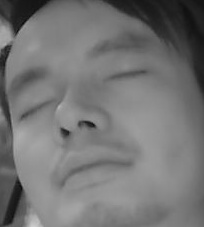blink: (18, 95, 58, 120), (107, 61, 147, 86)
mouth: (53, 142, 136, 192)
